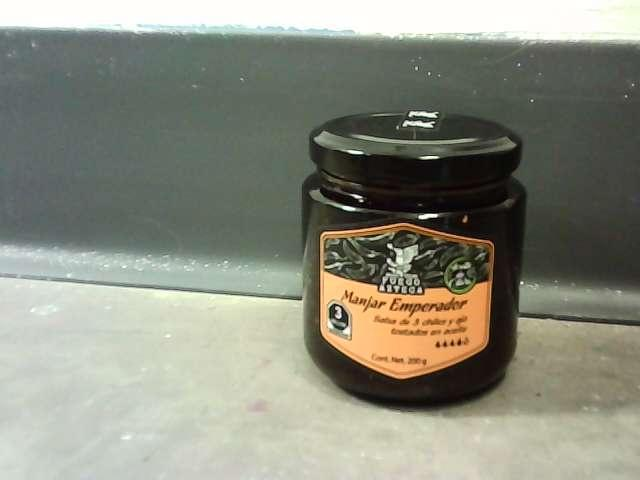jars: (301, 109, 522, 407)
